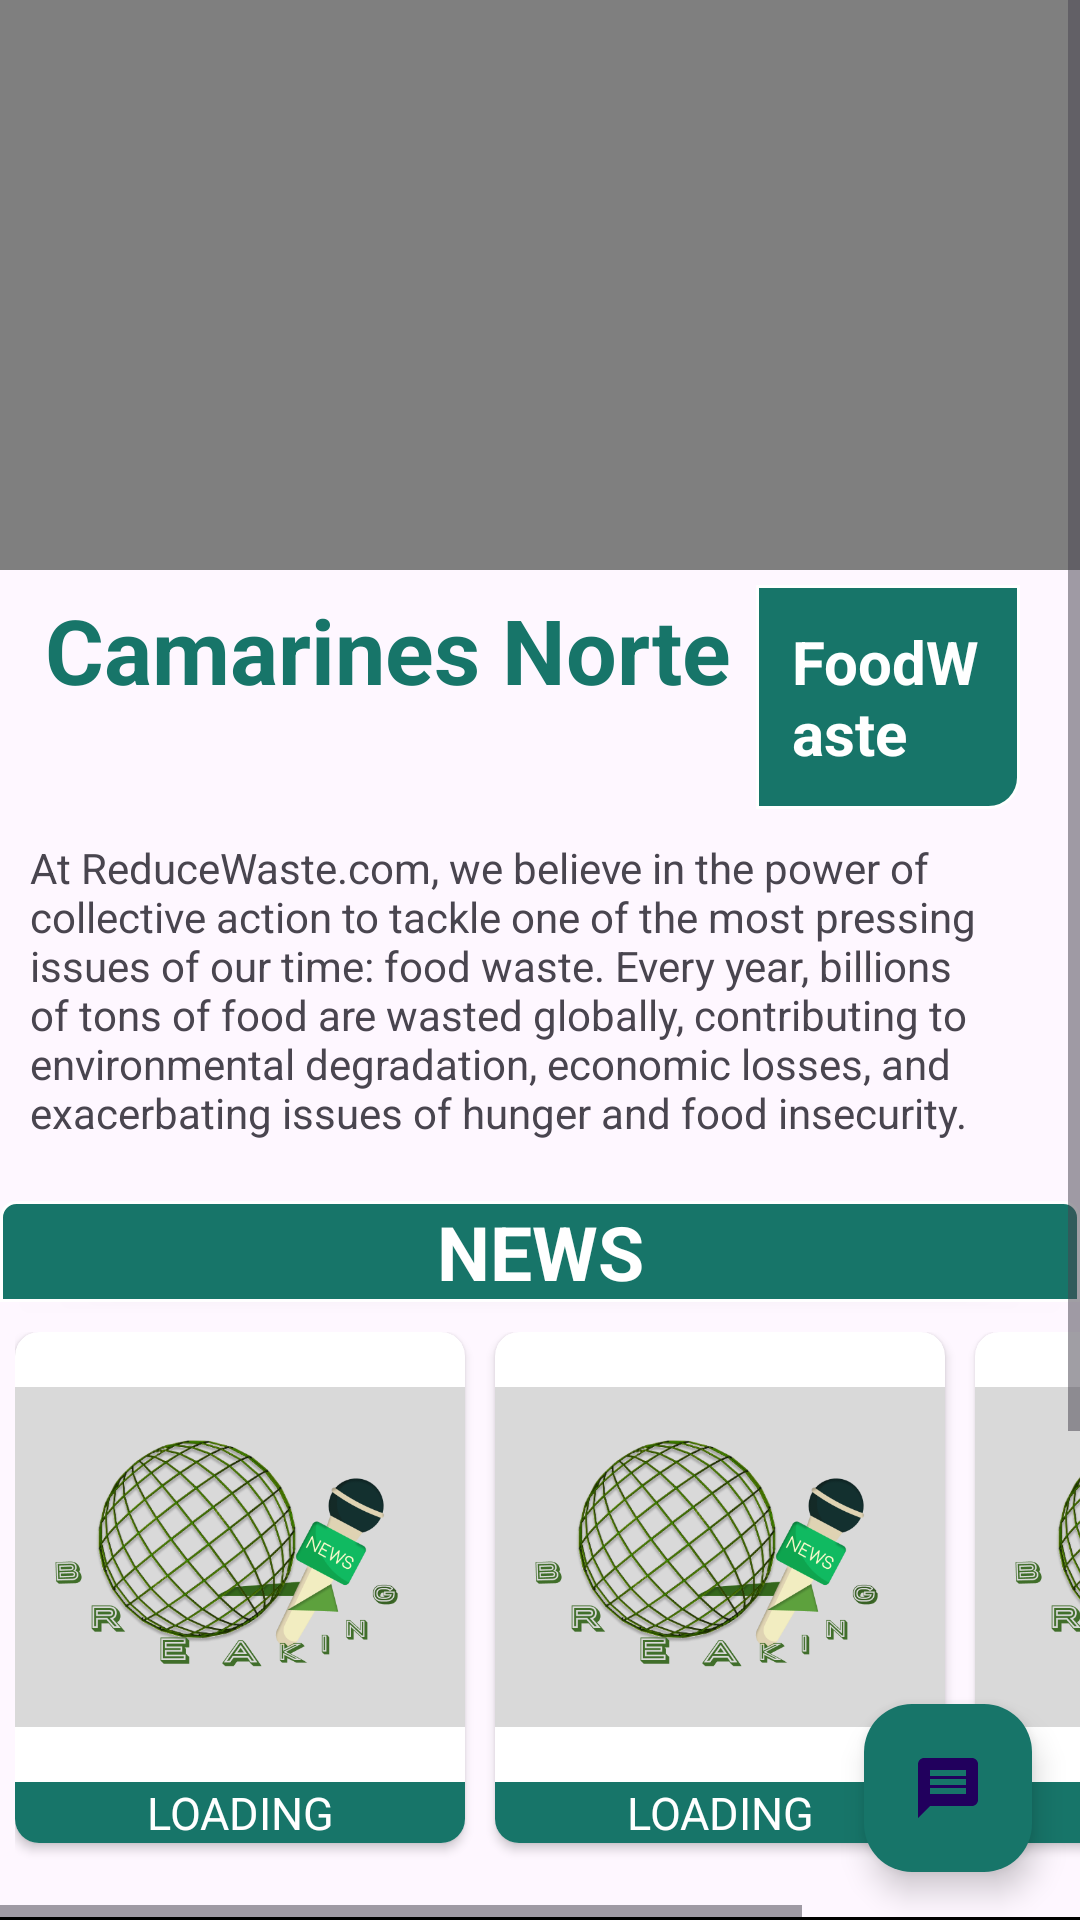

Icons on this 1080 × 1920 Android screen, each with the point to tap as [x,y]:
chatbot: [948,1788]
